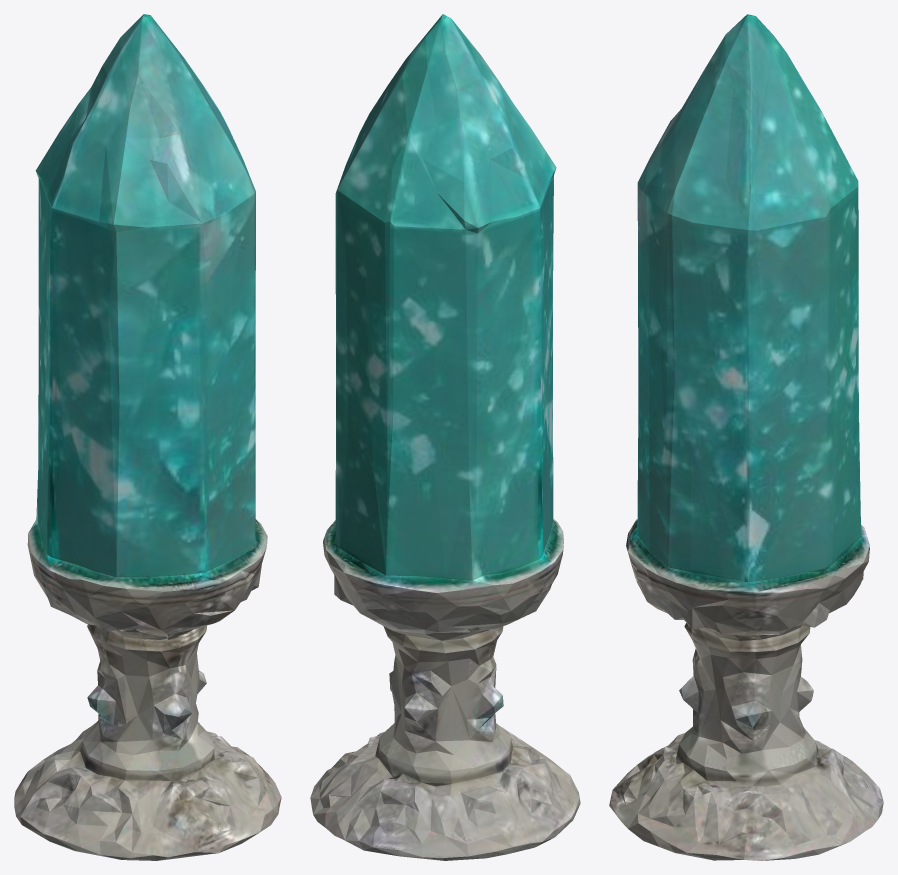
The model's file is crystal_cyan_pedestal_lod0.glb.
The picture shows the model from 3 angles, left to right: view 1: azimuth 30°, elevation 25°; view 2: azimuth 150°, elevation 25°; view 3: azimuth 270°, elevation 25°; orthographic projection.
Visible parts, largest first — view 1: crystal_cyan_pedestal_lod0; view 2: crystal_cyan_pedestal_lod0; view 3: crystal_cyan_pedestal_lod0.
Part boxes in pixels (<box>): crystal_cyan_pedestal_lod0: <box>14,14,281,860</box>; crystal_cyan_pedestal_lod0: <box>310,14,580,860</box>; crystal_cyan_pedestal_lod0: <box>609,14,883,860</box>.
Size of the model in its own units: 0.4683 by 1.5 by 0.4707.
1 material, 1 textured.
